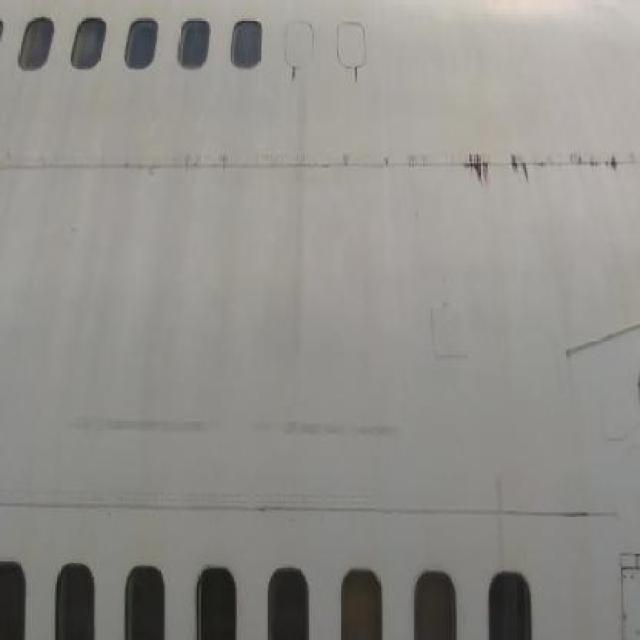Rust: (448, 133, 630, 199), (352, 66, 370, 86), (288, 64, 302, 88)
Scartch: (62, 402, 426, 458)
